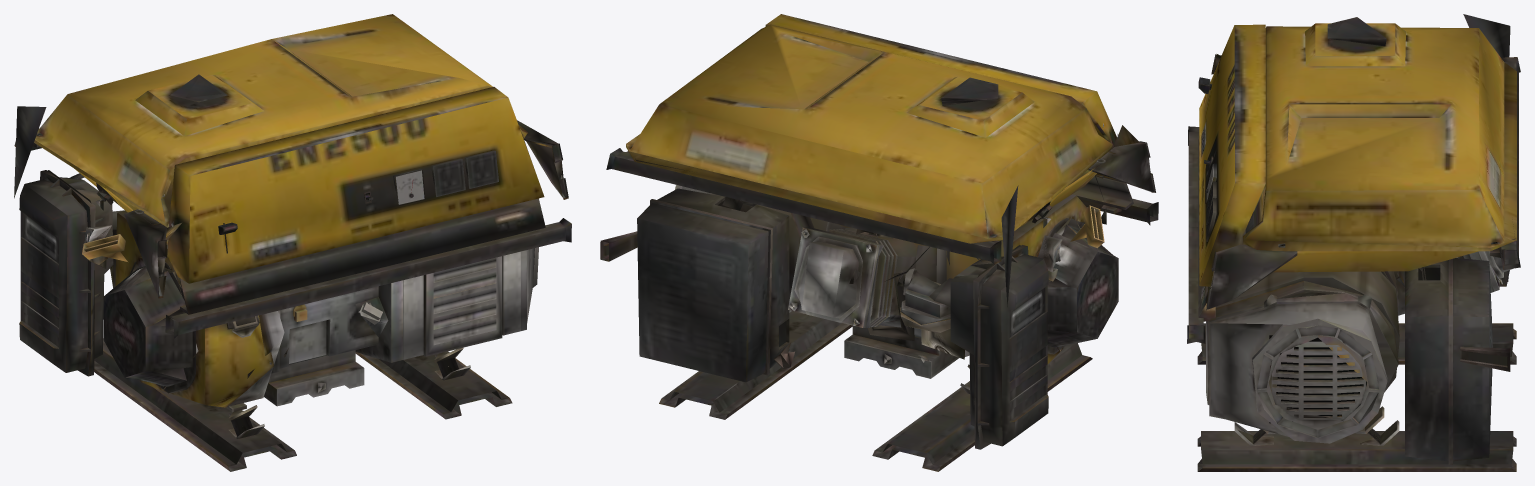
The model's file is g_gen.glb.
3 views of the same model, side by side, from view 1: azimuth 30°, elevation 25°; view 2: azimuth 150°, elevation 25°; view 3: azimuth 270°, elevation 25° (orthographic). The views are drawn at different scales.
Visible parts, largest first — view 1: portable_generator; view 2: portable_generator; view 3: portable_generator.
Part boxes in pixels (bbox=[...]): portable_generator: bbox=[14, 14, 571, 471]; portable_generator: bbox=[600, 14, 1158, 471]; portable_generator: bbox=[1187, 14, 1520, 471].
Bounding box in the file's own units: 0.8086 × 0.5746 × 0.5382.
Materials: 2 (2 with a texture image).
